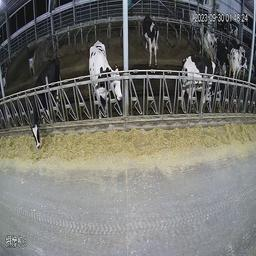cow: (28, 56, 62, 155), (192, 55, 237, 110), (90, 39, 123, 113), (139, 11, 158, 69), (198, 23, 217, 55), (231, 44, 248, 74), (188, 6, 198, 36)
